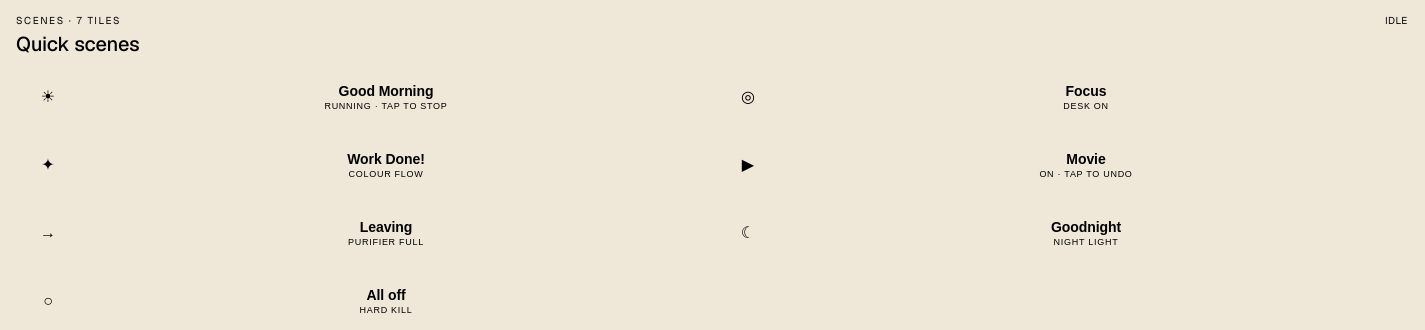
Test: ScenesCard — a busy tile doesn't invite the tap it will drop › names the stop and the undo for what they are
The image size is (1425, 330).
What coordinates should you click on to do the following:
click the button "☀ Good Morning Running · tap to stop"
I would click on:
 (362, 96)
Its box is [16,66,708,126].
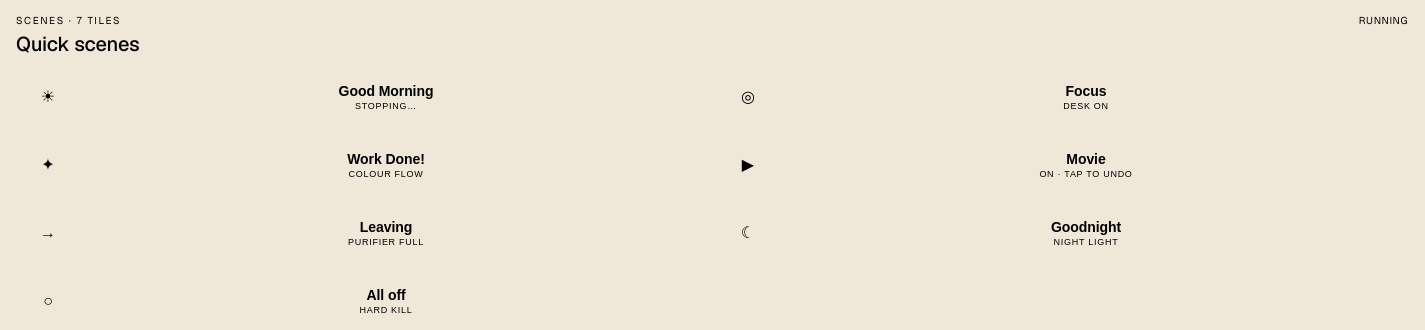
What coordinates should you click on to do the following:
click the button "▶ Movie On · tap to undo"
I would click on:
 (1086, 158)
Its box is [716,134,1408,194].
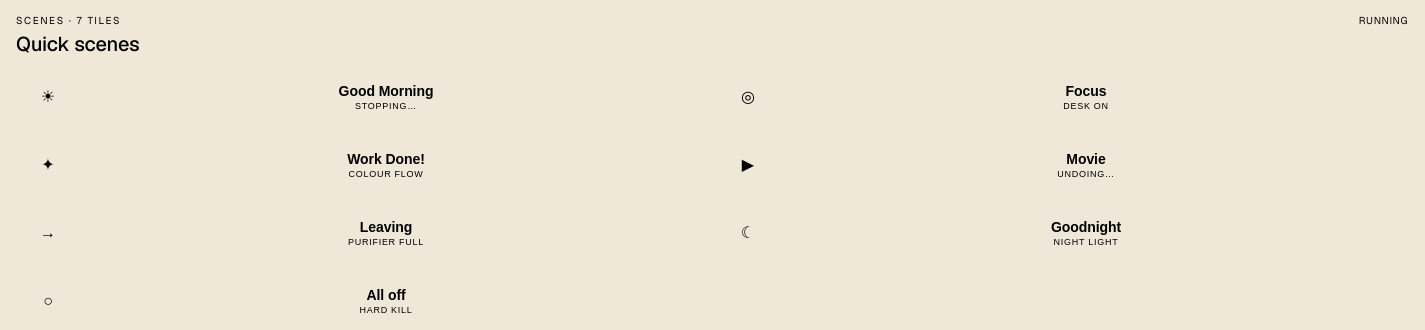
Result: the button "☀ Good Morning Stopping…" is shown at [16,66,708,126]
Result: the button "▶ Movie Undoing…" is shown at [716,134,1408,194]
